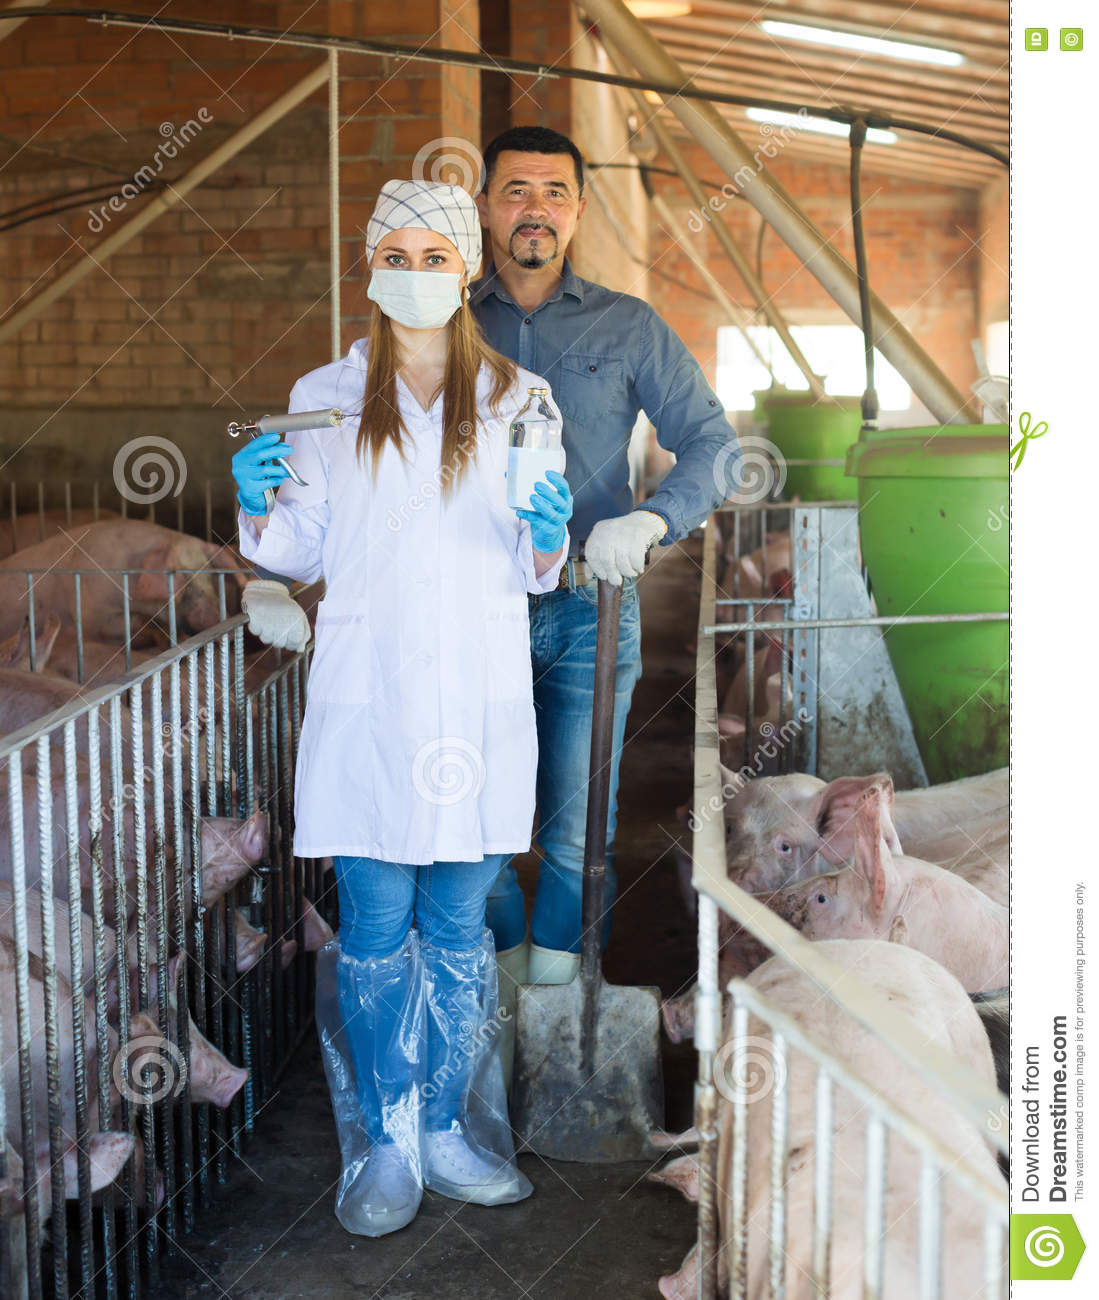mask: (367, 266, 462, 332)
